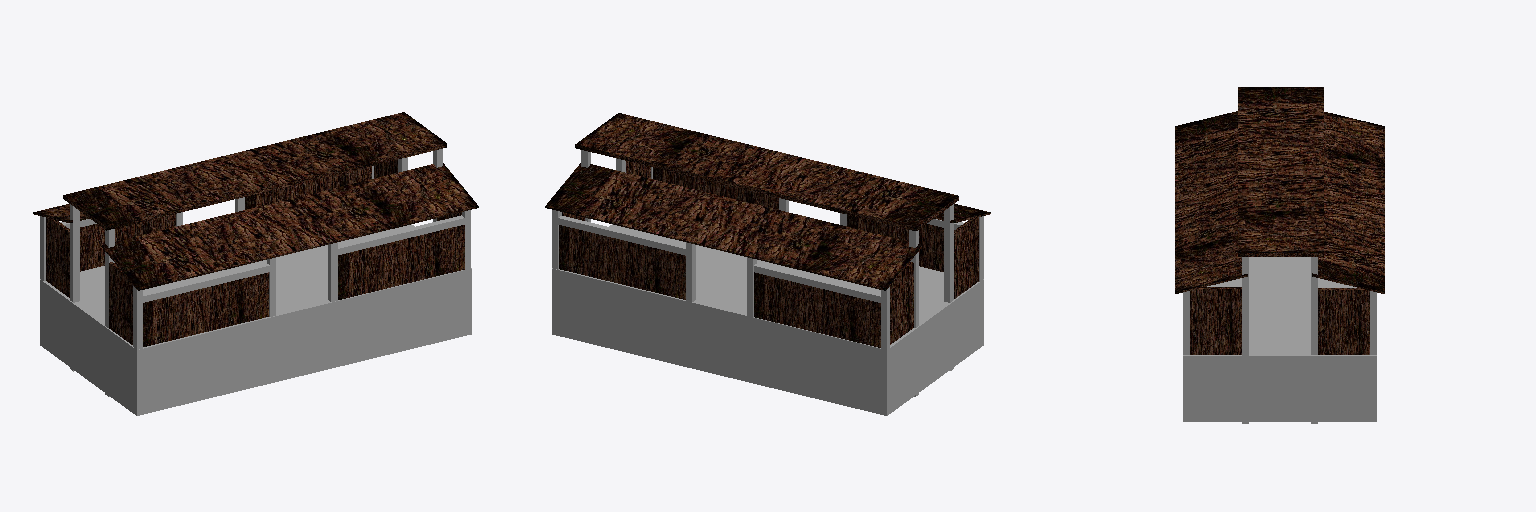
The picture shows the model from 3 angles: view 1: azimuth 30°, elevation 25°; view 2: azimuth 150°, elevation 25°; view 3: azimuth 270°, elevation 25°; orthographic projection.
Parts seen in each view (by area): view 1: Box, Box23, Box24, Box20, Box19, Box22, Box21, Box17, Box18, Box13, Box25, Box12 (+2 smaller); view 2: Box, Box14, Box24, Box22, Box21, Box19, Box18, Box17, Box20, Box26, Box27, Box11 (+3 smaller); view 3: Box, Box24, Box23, Box14, Box15, Box16, Box9, Box10.
Boxes of the visible parts, x1=… form: Box: x1=40, y1=224, x2=471, y2=415; Box23: x1=101, y1=163, x2=478, y2=290; Box24: x1=63, y1=112, x2=446, y2=230; Box20: x1=338, y1=225, x2=464, y2=299; Box19: x1=143, y1=272, x2=268, y2=346; Box22: x1=80, y1=214, x2=175, y2=271; Box21: x1=245, y1=166, x2=371, y2=209; Box17: x1=46, y1=218, x2=69, y2=297; Box18: x1=109, y1=262, x2=132, y2=344; Box13: x1=143, y1=263, x2=270, y2=302; Box25: x1=338, y1=215, x2=464, y2=254; Box12: x1=70, y1=204, x2=79, y2=371; Box: x1=552, y1=224, x2=983, y2=415; Box14: x1=545, y1=163, x2=922, y2=290; Box24: x1=575, y1=113, x2=958, y2=230; Box22: x1=754, y1=272, x2=880, y2=347; Box21: x1=559, y1=225, x2=685, y2=299; Box19: x1=847, y1=215, x2=943, y2=271; Box18: x1=954, y1=217, x2=978, y2=298; Box17: x1=890, y1=262, x2=913, y2=344; Box20: x1=653, y1=167, x2=778, y2=209; Box26: x1=558, y1=216, x2=686, y2=255; Box27: x1=754, y1=263, x2=880, y2=302; Box11: x1=944, y1=204, x2=953, y2=370; Box: x1=1183, y1=257, x2=1376, y2=421; Box24: x1=1238, y1=87, x2=1323, y2=256; Box23: x1=1175, y1=111, x2=1247, y2=293; Box14: x1=1312, y1=112, x2=1384, y2=293; Box15: x1=1190, y1=287, x2=1241, y2=354; Box16: x1=1318, y1=288, x2=1369, y2=354; Box9: x1=1242, y1=257, x2=1248, y2=423; Box10: x1=1311, y1=257, x2=1317, y2=423.
Bounding box in the file's own units: 12.21 × 5.91 × 6.53.
Materials: 3 (1 with a texture image).